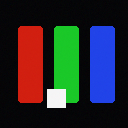1 square: (47, 89, 65, 107)
